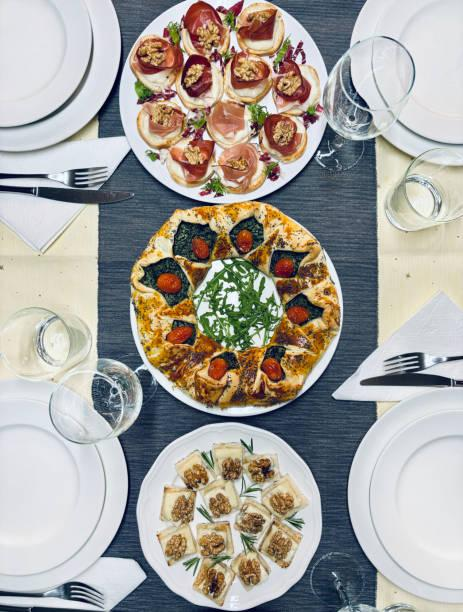Braised Crucian Carp: (117, 2, 328, 203), (128, 220, 342, 412), (134, 421, 320, 607)
